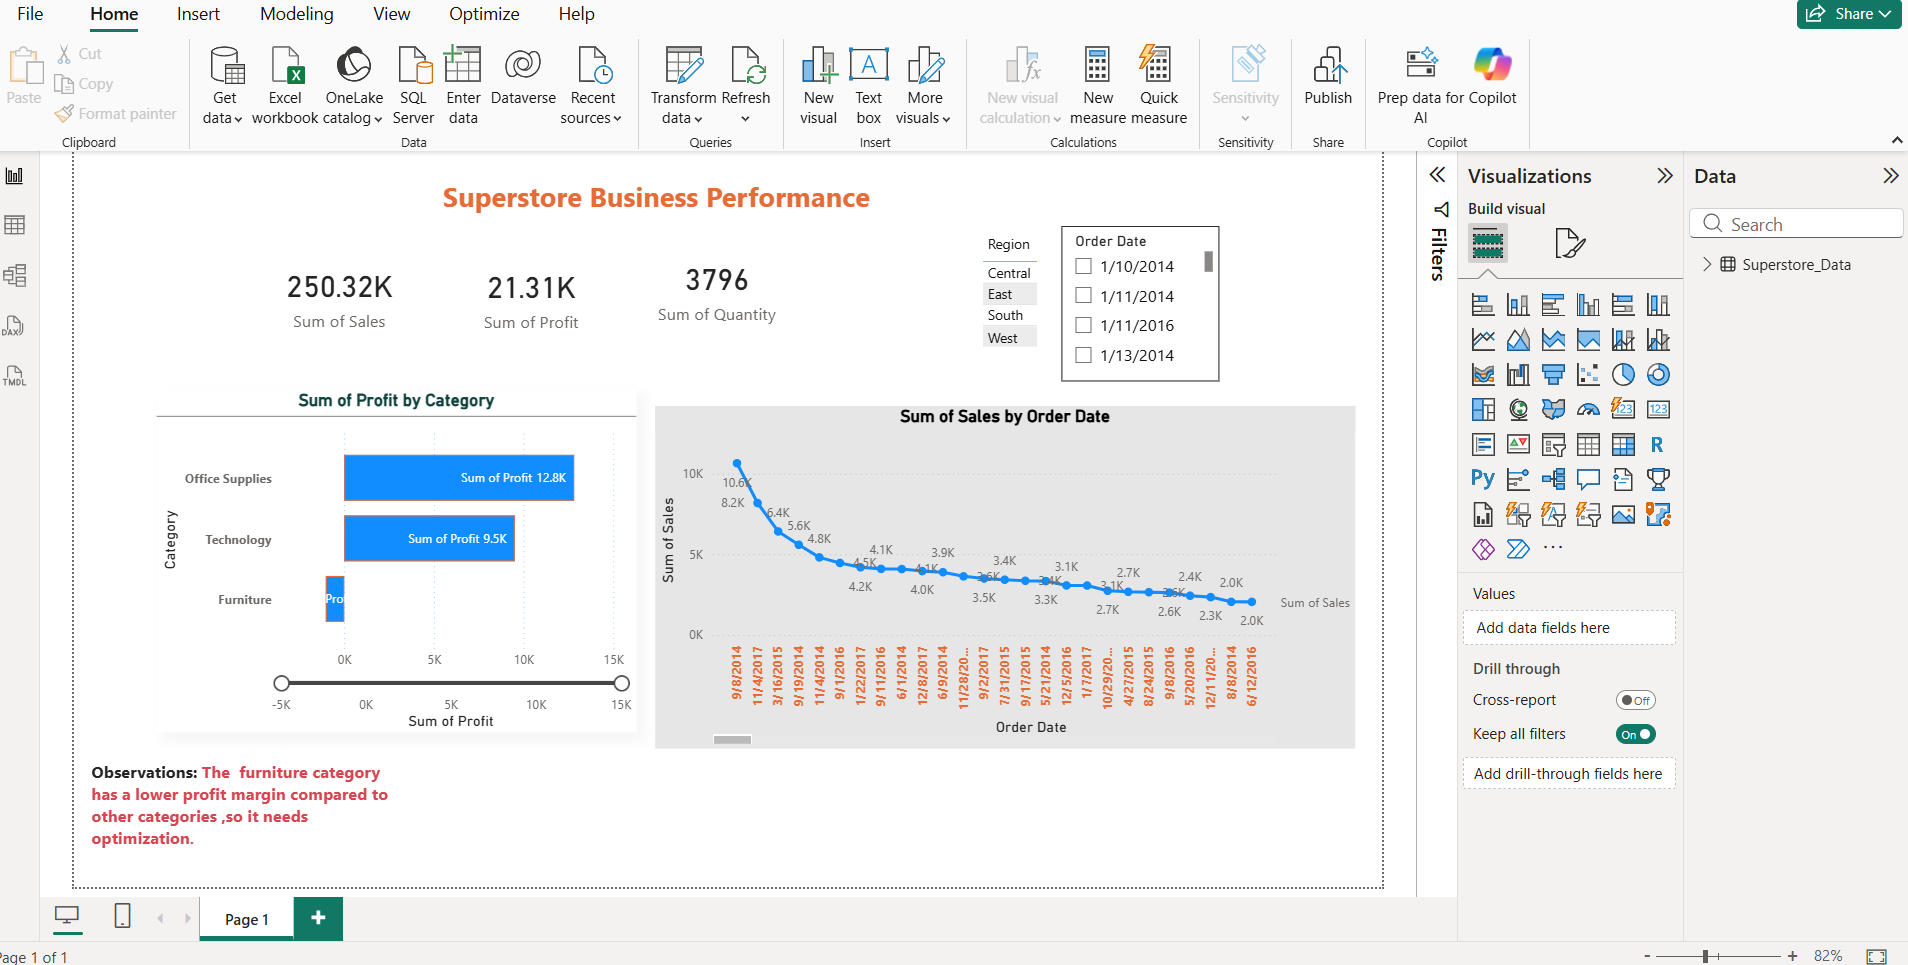

The dashboard page shown, as its layout file describes it:
{"tool":"powerbi","page":{"name":"Page 1","canvas":[1280,720],"ordinal":0},"visuals":[{"type":"card","fields":{"Values":["Sum(Superstore_Data.Sales)"]},"box":[163.9,58.7,192,166.3],"z":0},{"type":"card","fields":{"Values":["Sum(Superstore_Data.Profit)"]},"box":[355.8,35.5,183.4,214],"z":1000},{"type":"card","fields":{"Values":["Sum(Superstore_Data.Quantity)"]},"box":[508.7,36.7,240.9,196.9],"z":2000},{"type":"clusteredBarChart","fields":{"Category":["Superstore_Data.Category"],"Y":["Sum(Superstore_Data.Profit)"]},"box":[80.7,233.6,469.6,335.1],"z":3000},{"type":"lineChart","fields":{"Category":["Superstore_Data.Order Date"],"Y":["Sum(Superstore_Data.Sales)"]},"box":[568.6,249.5,684.8,335.1],"z":4000},{"type":"textbox","box":[12.2,590.6,303.3,96.6],"z":5000},{"type":"textbox","box":[355.8,20.8,924.5,56.3],"z":6000},{"type":"tableEx","fields":{"Values":["Superstore_Data.Region"]},"box":[882.9,74.6,117.4,150.4],"z":7000},{"type":"slicer","fields":{"Values":["Superstore_Data.Order Date"]},"box":[966,73.4,154.1,151.6],"z":8000}]}

Visuals, with their boxes on the page's 1280x720 design canvas (x1, y1, x2, y2). These are canvas units, not pixel positions in the 1908x965 screenshot, which may show the page scaled, cropped or inside an application window:
card - Sum(Superstore_Data.Sales): [left=164, top=59, right=356, bottom=225]
card - Sum(Superstore_Data.Profit): [left=356, top=36, right=539, bottom=250]
card - Sum(Superstore_Data.Quantity): [left=509, top=37, right=750, bottom=234]
clusteredBarChart - Superstore_Data.Category x Sum(Superstore_Data.Profit): [left=81, top=234, right=550, bottom=569]
lineChart - Superstore_Data.Order Date x Sum(Superstore_Data.Sales): [left=569, top=250, right=1253, bottom=585]
textbox: [left=12, top=591, right=316, bottom=687]
textbox: [left=356, top=21, right=1280, bottom=77]
tableEx - Superstore_Data.Region: [left=883, top=75, right=1000, bottom=225]
slicer - Superstore_Data.Order Date: [left=966, top=73, right=1120, bottom=225]
